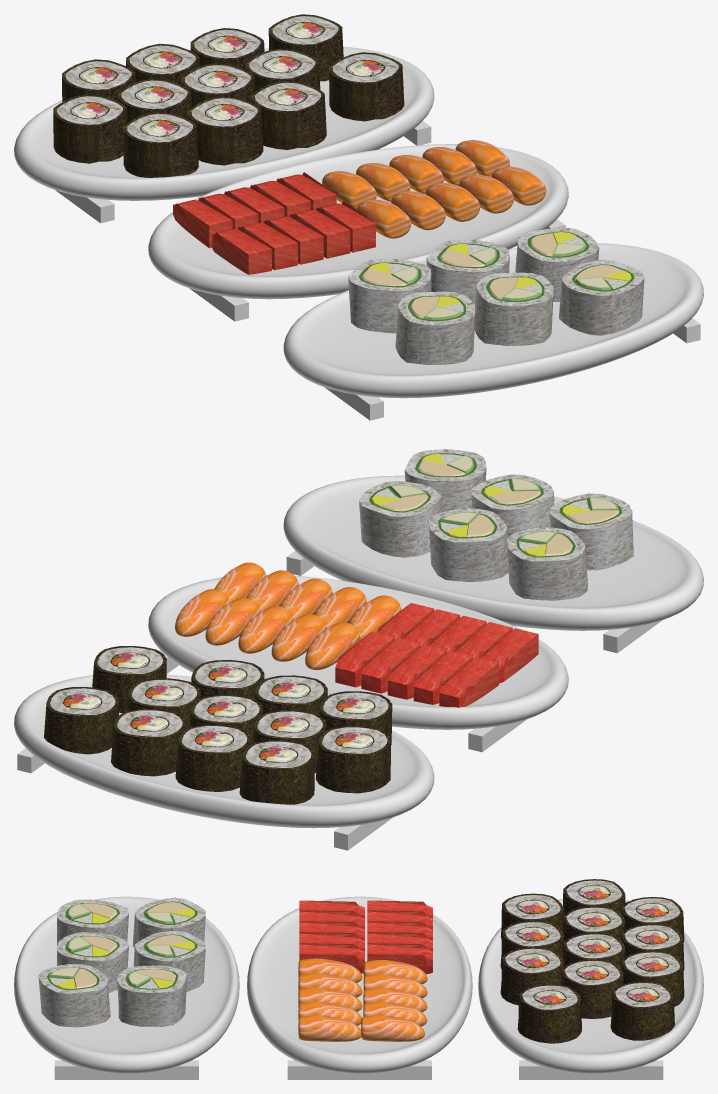
Rendered from Sushi Lunch Combo 3.fbx.
3 views of the same model, one above another, from view 1: azimuth 30°, elevation 25°; view 2: azimuth 150°, elevation 25°; view 3: azimuth 270°, elevation 25° (orthographic). The views are drawn at different scales.
Visible parts, largest first — view 1: pasted__polySurface5 (×3), polySurface5, pasted__pasted__pCylinder1 (×5), pasted__pasted__pasted__pCylinder1 (×5), pasted__pCylinder1 (×3), pasted__pasted__pasted__pasted__pCylinder1 (×3), pCylinder1, pasted__pasted__pCube3 (×4), pasted__pCube3 (×4), pasted__pasted__pasted__pasted__pasted__pCylinder1, pasted__pasted__pasted__polySurface2 (×2), pasted__pasted__polySurface2 (×2) (+7 smaller); view 2: pasted__polySurface5 (×3), polySurface5, pasted__pasted__pCylinder1 (×5), pasted__pasted__pasted__pCylinder1 (×5), pasted__pCylinder1 (×3), pasted__pasted__pasted__pasted__pCylinder1 (×3), pasted__pCube3 (×4), pasted__pasted__pCube3 (×4), pasted__pasted__pasted__pasted__pasted__pCylinder1, pCylinder1, pasted__pasted__polySurface2 (×2), pasted__pasted__pasted__polySurface2 (×2) (+7 smaller); view 3: pasted__polySurface5 (×3), polySurface5, pasted__pasted__pCylinder1 (×5), pasted__pasted__pasted__pCylinder1 (×5), pasted__pCylinder1 (×3), pasted__pasted__pasted__pasted__pCylinder1 (×3), pCylinder1, pasted__pasted__pCube3 (×4), pasted__pCube3 (×4), pasted__pasted__polySurface2 (×2), pasted__pasted__pasted__polySurface2 (×2), pasted__pasted__pasted__pasted__pasted__pCylinder1 (+7 smaller).
Boxes of the visible parts, left/top/right/bottom form: pasted__polySurface5 (×3): left=14, top=46, right=568, bottom=321; polySurface5: left=283, top=243, right=703, bottom=420; pasted__pasted__pCylinder1 (×5): left=62, top=52, right=553, bottom=345; pasted__pasted__pasted__pCylinder1 (×5): left=181, top=14, right=509, bottom=304; pasted__pCylinder1 (×3): left=245, top=48, right=599, bottom=364; pasted__pasted__pasted__pasted__pCylinder1 (×3): left=118, top=43, right=199, bottom=177; pCylinder1: left=559, top=260, right=644, bottom=335; pasted__pasted__pCube3 (×4): left=241, top=172, right=350, bottom=270; pasted__pCube3 (×4): left=201, top=178, right=310, bottom=274; pasted__pasted__pasted__pasted__pasted__pCylinder1: left=53, top=94, right=127, bottom=163; pasted__pasted__pasted__polySurface2 (×2): left=459, top=166, right=546, bottom=213; pasted__pasted__polySurface2 (×2): left=391, top=140, right=509, bottom=230; pasted__polySurface5 (×3): left=14, top=574, right=568, bottom=850; polySurface5: left=283, top=475, right=703, bottom=653; pasted__pasted__pCylinder1 (×5): left=92, top=474, right=587, bottom=804; pasted__pasted__pasted__pCylinder1 (×5): left=44, top=508, right=508, bottom=776; pasted__pCylinder1 (×3): left=127, top=481, right=633, bottom=728; pasted__pasted__pasted__pasted__pCylinder1 (×3): left=175, top=691, right=392, bottom=791; pasted__pCube3 (×4): left=361, top=628, right=538, bottom=704; pasted__pasted__pCube3 (×4): left=335, top=609, right=512, bottom=687; pasted__pasted__pasted__pasted__pasted__pCylinder1: left=316, top=725, right=391, bottom=793; pCylinder1: left=404, top=449, right=486, bottom=511; pasted__pasted__polySurface2 (×2): left=175, top=587, right=366, bottom=636; pasted__pasted__pasted__polySurface2 (×2): left=214, top=562, right=298, bottom=611; pasted__polySurface5 (×3): left=247, top=896, right=703, bottom=1079; polySurface5: left=14, top=896, right=239, bottom=1079; pasted__pasted__pCylinder1 (×5): left=57, top=897, right=684, bottom=1043; pasted__pasted__pasted__pCylinder1 (×5): left=133, top=920, right=684, bottom=1040; pasted__pCylinder1 (×3): left=57, top=899, right=623, bottom=1026; pasted__pasted__pasted__pasted__pCylinder1 (×3): left=500, top=893, right=684, bottom=970; pCylinder1: left=38, top=964, right=110, bottom=1027; pasted__pasted__pCube3 (×4): left=299, top=911, right=432, bottom=974; pasted__pCube3 (×4): left=299, top=900, right=432, bottom=951; pasted__pasted__polySurface2 (×2): left=298, top=973, right=424, bottom=1041; pasted__pasted__pasted__polySurface2 (×2): left=298, top=1001, right=361, bottom=1041; pasted__pasted__pasted__pasted__pasted__pCylinder1: left=563, top=879, right=625, bottom=914.
Size of the model in its own units: 26.13 by 4.87 by 45.88.
144 materials, 86 textured.
